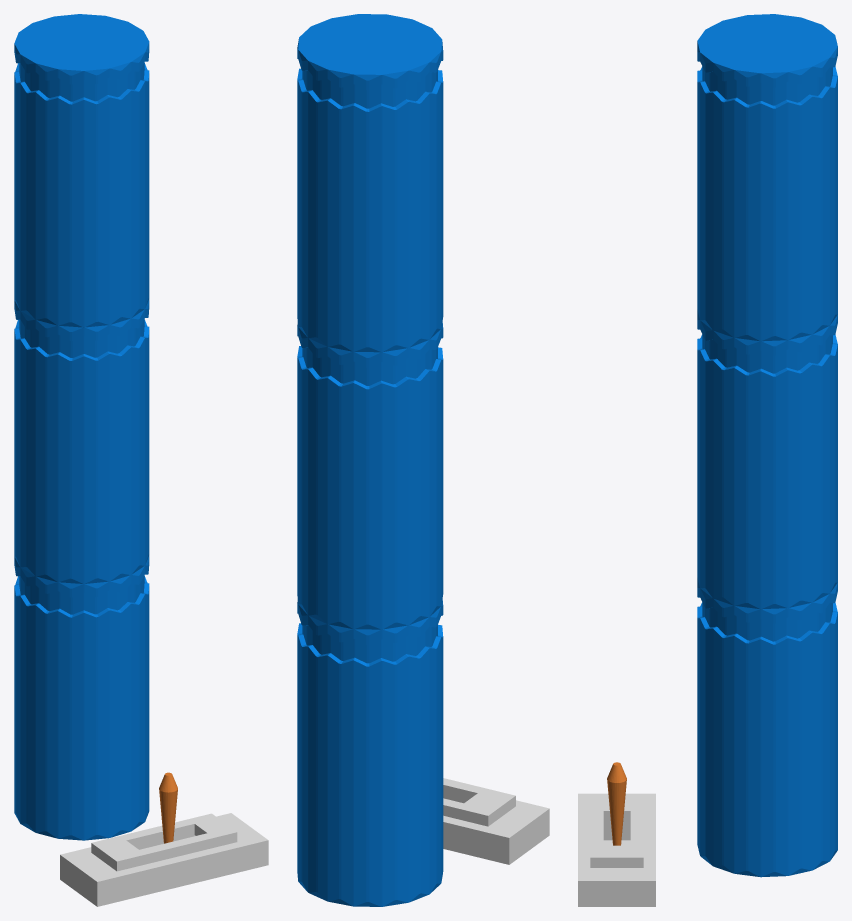
Rendered from Pillar.gltf.
3 renders of one model, left to right at view 1: azimuth 30°, elevation 25°; view 2: azimuth 150°, elevation 25°; view 3: azimuth 270°, elevation 25°, orthographic. The views are drawn at different scales.
Visible parts, largest first — view 1: 円柱.001, 立方体.001, 円柱; view 2: 円柱.001, 立方体.001; view 3: 円柱.001, 立方体.001, 円柱.
Part boxes in pixels (x1=…): 円柱.001: x1=14, y1=14, x2=149, y2=840; 立方体.001: x1=60, y1=813, x2=268, y2=906; 円柱: x1=159, y1=772, x2=177, y2=843; 円柱.001: x1=297, y1=14, x2=443, y2=906; 立方体.001: x1=443, y1=778, x2=549, y2=864; 円柱.001: x1=697, y1=14, x2=837, y2=877; 立方体.001: x1=578, y1=793, x2=655, y2=906; 円柱: x1=607, y1=762, x2=626, y2=845.
Bounding box in the file's own units: 2.92 × 12.69 × 3.67.
